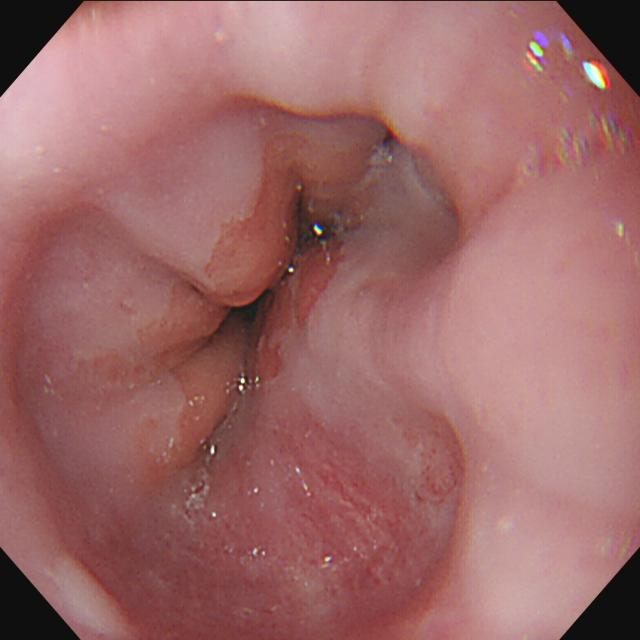D: (292, 416, 463, 599)
I: (126, 127, 385, 491)
U: (523, 32, 550, 73), (584, 57, 613, 91)
